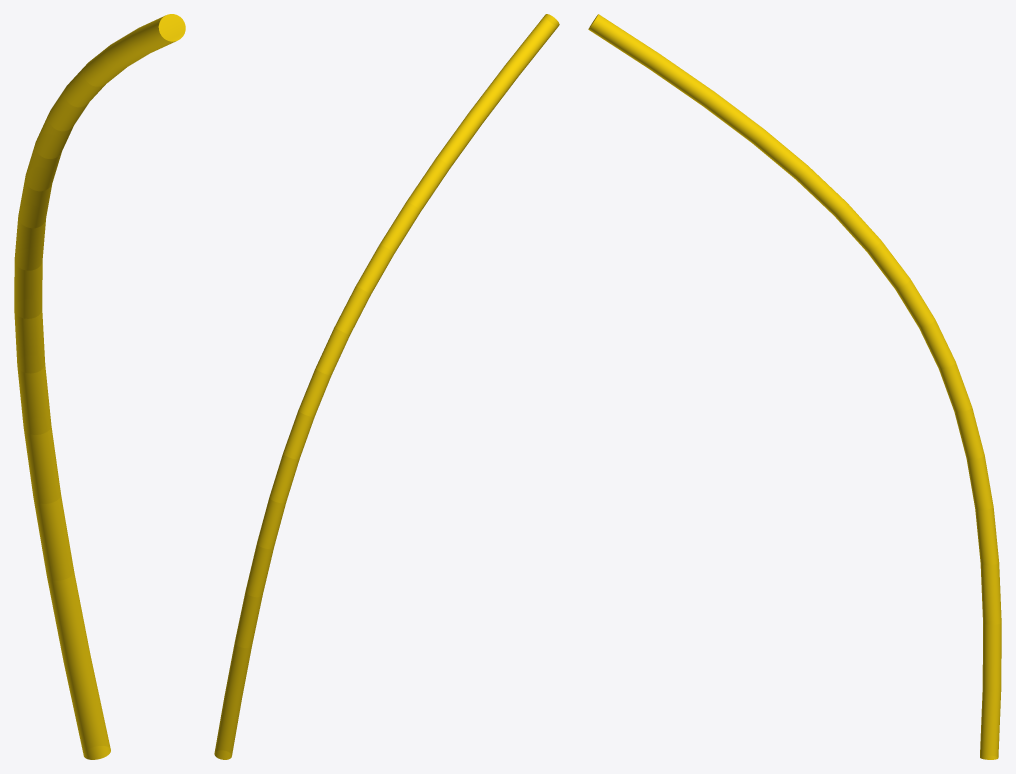
The model's file is Event_421364160_track_80.fbx.
The picture shows the model from 3 angles, left to right: view 1: azimuth 30°, elevation 25°; view 2: azimuth 150°, elevation 25°; view 3: azimuth 270°, elevation 25°; orthographic projection. The views are drawn at different scales.
Visible parts, largest first — view 1: Model; view 2: Model; view 3: Model.
Part boxes in pixels (x1,y1,x2,y2): Model: [14, 14, 185, 759]; Model: [214, 14, 559, 759]; Model: [588, 14, 1001, 759].
Bounding box in the file's own units: 0.4057 × 1.59 × 0.8864.
